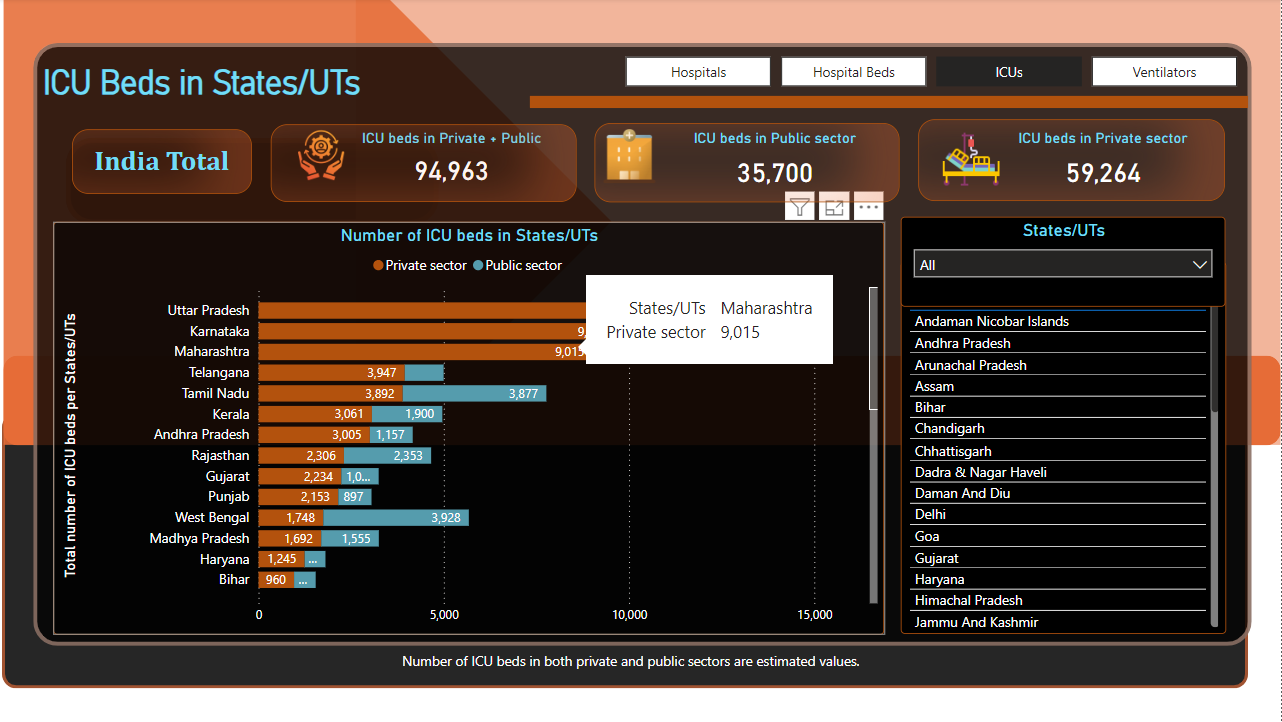

What the dashboard file says about the page in this screenshot:
{"tool":"powerbi","page":{"name":"ICUs","canvas":[1280,720],"ordinal":2},"visuals":[{"type":"shape","box":[91.7,137.5,364.9,84.7],"z":0},{"type":"shape","box":[452.5,117.9,382,81.6],"z":1000},{"type":"shape","box":[29.9,43.7,1219,402.9],"z":2000},{"type":"shape","box":[29.9,406.3,1219,269.4],"z":3000},{"type":"shape","box":[375.3,0,904.7,437.2],"z":5000},{"type":"shape","box":[30.2,0,595.3,437.2],"z":6000},{"type":"shape","box":[30.2,349.2,1249.8,88],"z":7000},{"type":"shape","box":[59.7,43.9,1191.9,589.8],"z":8000},{"type":"barChart","title":"Number of ICU beds in States/UTs","fields":{"Y":["Sum(ICU beds count in India - Statewise.Number of ICU beds in private sector)","Sum(ICU beds count in India - Statewise.Number of ICU beds in public sector)"],"Category":["ICU beds count in India - Statewise.States/UTs"]},"box":[79.5,218.7,812.7,403.9],"z":9000},{"type":"shape","box":[545.5,95.7,703.4,12.4],"z":10000},{"type":"image","box":[597.1,123.4,92.9,62.3],"z":11000},{"type":"image","box":[297.4,122.2,88.2,63.5],"z":12000},{"type":"tableEx","fields":{"Values":["ICU beds count in India - Statewise.States/UTs"]},"box":[908.4,258.5,318.1,364.1],"z":13000},{"type":"slicer","title":"States/UTs","fields":{"Values":["hospital_beds.States"]},"box":[908.6,214,317.9,88],"z":14000},{"type":"textbox","box":[415.5,634.2,476.9,31.7],"z":15000},{"type":"shape","box":[925.9,119,300.3,79.6],"z":16000},{"type":"card","title":"ICU beds in Private sector","fields":{"Values":["Sum(ICU beds count in India - Statewise.Number of ICU beds in private sector)"]},"box":[999,128.2,214.8,66.2],"z":17000},{"type":"image","box":[934.4,122.2,87,69.3],"z":18000},{"type":"shape","box":[609.3,121.9,298.4,77.7],"z":19000},{"type":"shape","box":[97.4,128.3,176.2,63.4],"z":20000},{"type":"card","title":"ICU beds in Private + Public","fields":{"Values":["Sum(ICU beds count in India - Statewise.Total number of ICU beds (public + private))"]},"box":[363.7,128.6,212.1,63.3],"z":21000},{"type":"card","title":"ICU beds in Public sector","fields":{"Values":["Sum(ICU beds count in India - Statewise.Number of ICU beds in public sector)"]},"box":[678.5,128.2,213.7,67.3],"z":22000},{"type":"textbox","box":[64.6,57.2,392.7,51],"z":23000},{"type":"pageNavigator","box":[640,57.2,600.2,29.8],"z":24000},{"type":"textbox","box":[114.4,137.6,143.8,58.7],"z":25000},{"type":"shape","box":[292.6,123.8,299.4,75.8],"z":26000}]}

Visuals, with their boxes in screenshot pixels (x1, y1, x2, y2), scaled from the page's 1280x720 canvas onto the 1282x722 screenshot:
shape: region(92, 138, 457, 223)
shape: region(453, 118, 836, 200)
shape: region(30, 44, 1251, 448)
shape: region(30, 407, 1251, 678)
shape: region(376, 0, 1281, 438)
shape: region(30, 0, 626, 438)
shape: region(30, 350, 1281, 438)
shape: region(60, 44, 1254, 635)
"Number of ICU beds in States/UTs" barChart: region(80, 219, 894, 624)
shape: region(546, 96, 1251, 108)
image: region(598, 124, 691, 186)
image: region(298, 123, 386, 186)
tableEx - ICU beds count in India - Statewise.States/UTs: region(910, 259, 1228, 624)
"States/UTs" slicer: region(910, 215, 1228, 303)
textbox: region(416, 636, 894, 668)
shape: region(927, 119, 1228, 199)
"ICU beds in Private sector" card: region(1001, 129, 1216, 195)
image: region(936, 123, 1023, 192)
shape: region(610, 122, 909, 200)
shape: region(98, 129, 274, 192)
"ICU beds in Private + Public" card: region(364, 129, 577, 192)
"ICU beds in Public sector" card: region(680, 129, 894, 196)
textbox: region(65, 57, 458, 109)
pageNavigator: region(641, 57, 1242, 87)
textbox: region(115, 138, 259, 197)
shape: region(293, 124, 593, 200)
